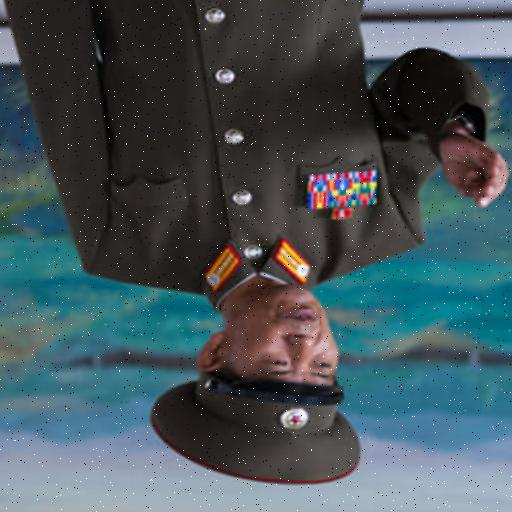north army: (26, 0, 444, 481)
